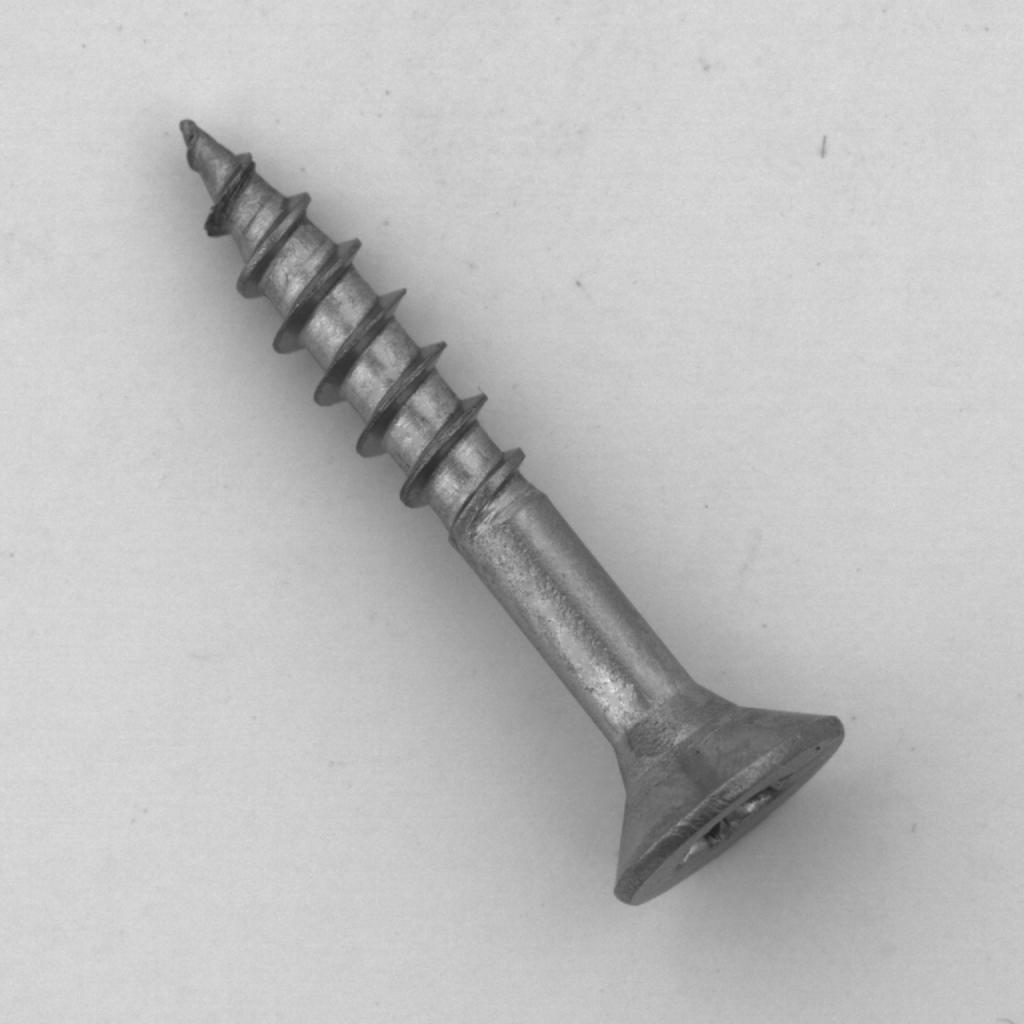good: (164, 103, 856, 920)
